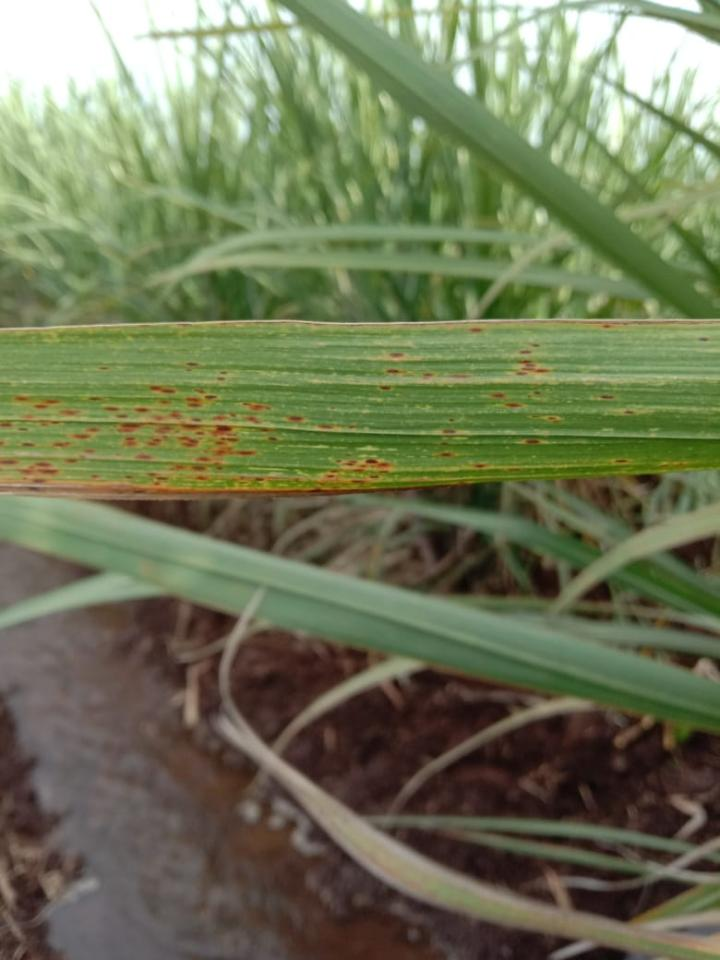Rust: (204, 425, 258, 457), (116, 415, 175, 434), (317, 469, 382, 486), (168, 411, 206, 438), (333, 458, 392, 473), (236, 474, 307, 486), (183, 388, 220, 408), (18, 460, 59, 477), (513, 359, 550, 375), (72, 426, 102, 440), (145, 472, 171, 487), (241, 401, 271, 411), (177, 435, 200, 447), (150, 384, 177, 394), (34, 399, 60, 409), (531, 415, 561, 423), (133, 451, 156, 460), (122, 436, 140, 447), (145, 437, 162, 447), (22, 477, 46, 484), (285, 415, 306, 423), (59, 409, 82, 416), (260, 423, 274, 434), (184, 362, 201, 371), (316, 424, 340, 430), (40, 420, 60, 427), (167, 465, 187, 472), (0, 458, 19, 465), (245, 416, 261, 424), (194, 455, 212, 462), (213, 458, 223, 470), (217, 371, 229, 381), (191, 466, 208, 473), (384, 368, 407, 373), (194, 474, 208, 482), (658, 463, 686, 467), (450, 373, 472, 378), (133, 407, 150, 413), (388, 352, 405, 358), (52, 442, 72, 447), (63, 458, 79, 464), (103, 406, 119, 412), (422, 372, 434, 380), (213, 415, 228, 421), (524, 439, 542, 444), (439, 452, 456, 457), (612, 459, 629, 464), (379, 385, 393, 391), (20, 442, 36, 447), (14, 396, 30, 401), (472, 463, 488, 468), (503, 403, 523, 407), (83, 448, 96, 454), (492, 393, 507, 398), (600, 395, 615, 400), (89, 473, 101, 479), (97, 366, 111, 371), (116, 414, 130, 419), (469, 327, 483, 332), (518, 350, 532, 355), (23, 414, 36, 419), (159, 400, 172, 405), (268, 436, 281, 441), (697, 336, 710, 341), (0, 422, 12, 427), (88, 397, 103, 401), (621, 410, 636, 414), (602, 324, 613, 329), (124, 474, 134, 479), (17, 427, 29, 431), (161, 434, 169, 440), (229, 412, 237, 418), (442, 430, 458, 433), (533, 389, 542, 394), (28, 486, 38, 490), (530, 343, 540, 347), (0, 440, 5, 446), (79, 454, 86, 458), (348, 425, 355, 429), (440, 442, 448, 445), (448, 418, 456, 421), (526, 395, 532, 399)
